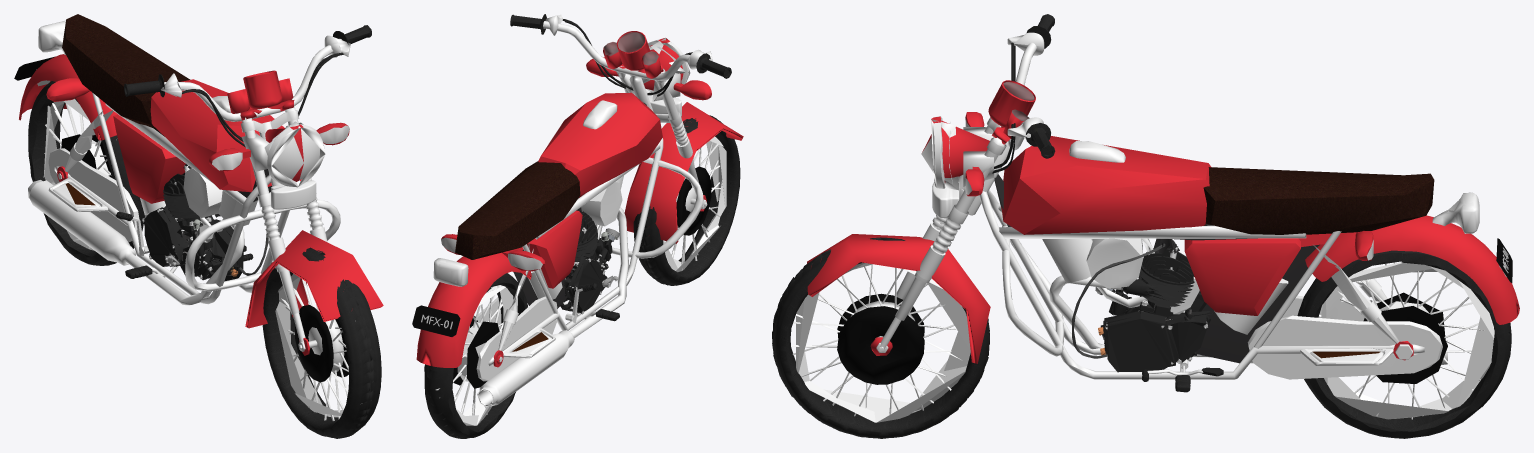
Rendered from motorcycle.glb.
3 views of the same model, side by side, from view 1: azimuth 30°, elevation 25°; view 2: azimuth 150°, elevation 25°; view 3: azimuth 270°, elevation 25° (orthographic). The views are drawn at different scales.
Parts seen in each view (by area): view 1: wheel_fl, wheel_rl, Cube.001, Cube, Torus.001, Cylinder.003, Cylinder.009, Cube.002, Sphere, Cylinder, Torus, wheel_fr (+24 smaller); view 2: wheel_rl, Cube.001, Cube, wheel_fl, Torus.001, Torus, Cylinder.009, Cylinder.003, Cube.002, wheel_fr, NurbsPath.002, Cylinder.037 (+23 smaller); view 3: wheel_rl, wheel_fl, Cube, Cube.001, Torus, Cylinder.003, Cube.002, Torus.001, wheel_fr, Object_24, Cube.007, Sphere (+19 smaller).
Boxes of the visible parts, x1,y1,x2,y2 form: wheel_fl: (262, 247, 381, 438); wheel_rl: (28, 81, 147, 265); Cube.001: (62, 14, 190, 130); Cube: (150, 79, 284, 192); Torus.001: (245, 230, 383, 328); Cylinder.003: (54, 166, 340, 304); Cylinder.009: (28, 180, 244, 305); Cube.002: (113, 114, 185, 203); Sphere: (264, 121, 325, 187); Cylinder: (241, 105, 323, 314); Torus: (19, 54, 117, 140); wheel_fr: (275, 273, 362, 417); wheel_rl: (424, 273, 557, 438); Cube.001: (455, 161, 580, 259); Cube: (538, 92, 662, 197); wheel_fl: (633, 115, 740, 285); Torus.001: (624, 102, 743, 243); Torus: (416, 252, 531, 367); Cylinder.009: (477, 207, 629, 406); Cylinder.003: (488, 138, 703, 365); Cube.002: (527, 210, 582, 288); wheel_fr: (663, 136, 726, 272); NurbsPath.002: (543, 21, 697, 80); Cylinder.037: (581, 182, 622, 226); wheel_rl: (1247, 250, 1511, 438); wheel_fl: (772, 237, 989, 438); Cube: (1001, 136, 1211, 234); Cube.001: (1203, 167, 1434, 234); Torus: (1305, 215, 1519, 324); Cylinder.003: (979, 190, 1424, 379); Cube.002: (1184, 238, 1300, 315); Torus.001: (807, 234, 990, 363); wheel_fr: (796, 263, 970, 422); Object_24: (1100, 287, 1175, 372); Cube.007: (994, 174, 1319, 363); Sphere: (921, 116, 989, 190).
Size of the model in its own units: 1.02 by 1.3 by 2.43.
30 materials, 5 textured.
